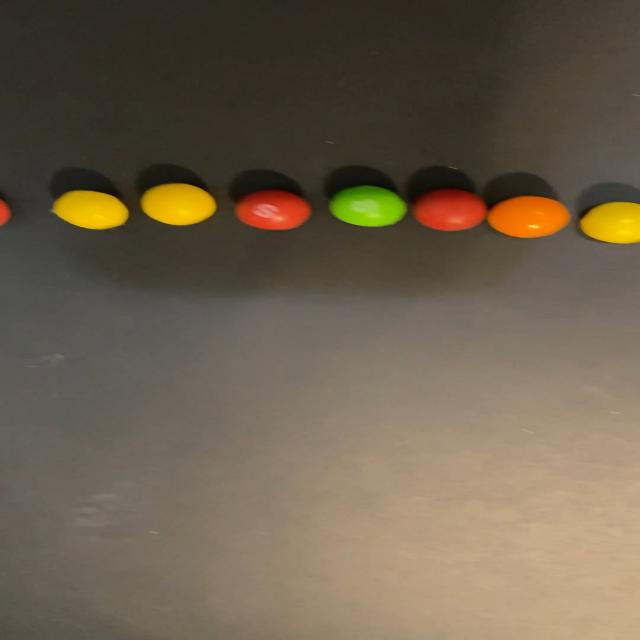smartie: (487, 196, 569, 237), (140, 182, 215, 225), (329, 185, 406, 226), (235, 189, 310, 230), (414, 188, 487, 230), (52, 190, 127, 229), (581, 202, 640, 243)
